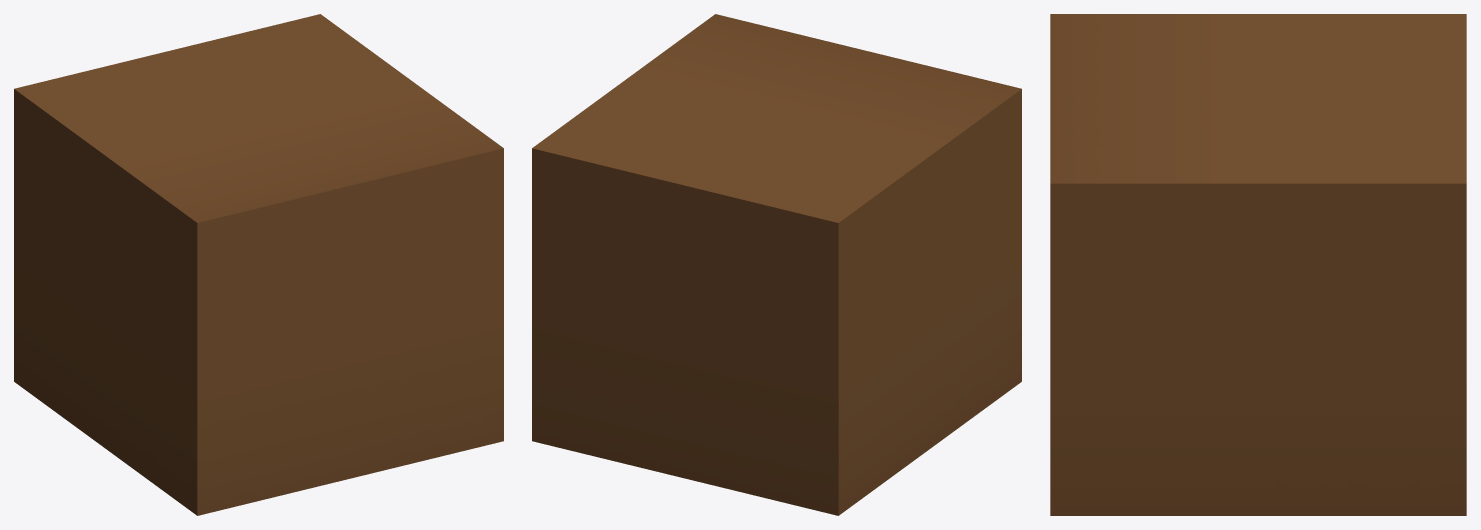
3 renders of one model, left to right at view 1: azimuth 30°, elevation 25°; view 2: azimuth 150°, elevation 25°; view 3: azimuth 270°, elevation 25°, orthographic. The views are drawn at different scales.
Visible parts, largest first — view 1: Box001; view 2: Box001; view 3: Box001.
Boxes of the visible parts, x1=… form: Box001: x1=14, y1=14, x2=503, y2=515; Box001: x1=532, y1=14, x2=1021, y2=515; Box001: x1=1050, y1=14, x2=1466, y2=515.
Size of the model in its own units: 7.29 by 6.66 by 7.56.
